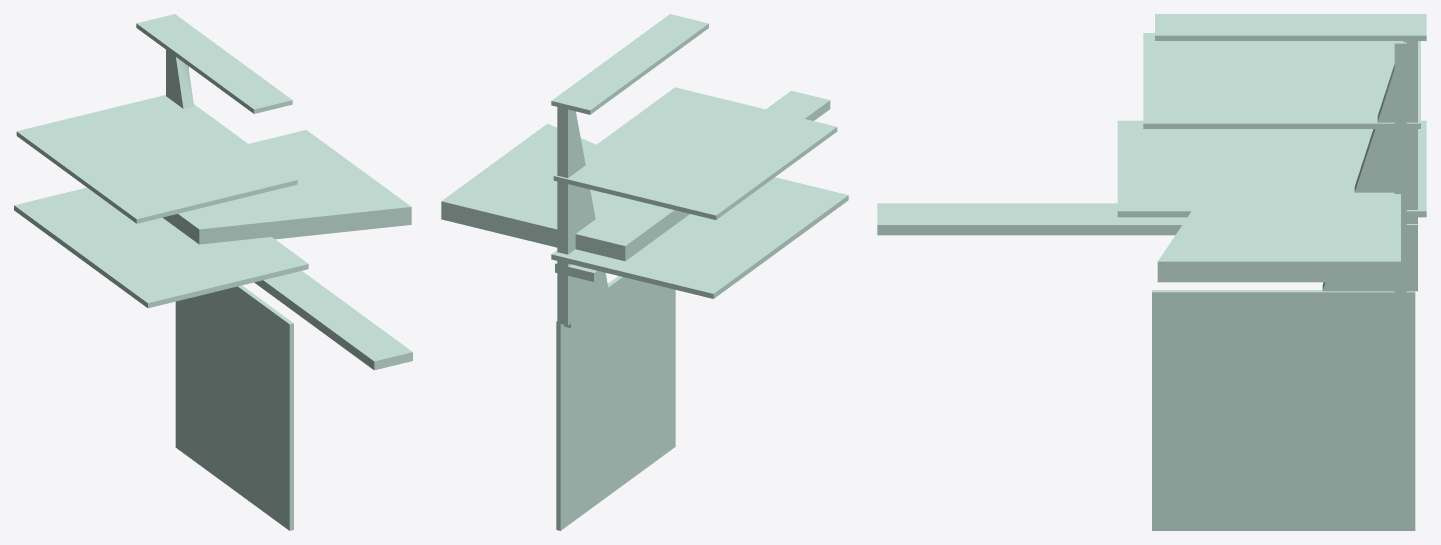
The picture shows the model from 3 angles, left to right: view 1: azimuth 30°, elevation 25°; view 2: azimuth 150°, elevation 25°; view 3: azimuth 270°, elevation 25°; orthographic projection. The views are drawn at different scales.
Visible parts, largest first — view 1: Renderer Node; view 2: Renderer Node; view 3: Renderer Node.
Part boxes in pixels (<box>): Renderer Node: <box>14,14,412,530</box>; Renderer Node: <box>441,14,848,530</box>; Renderer Node: <box>877,14,1426,530</box>.
Bounding box in the file's own units: 1.02 × 1.49 × 1.5.
